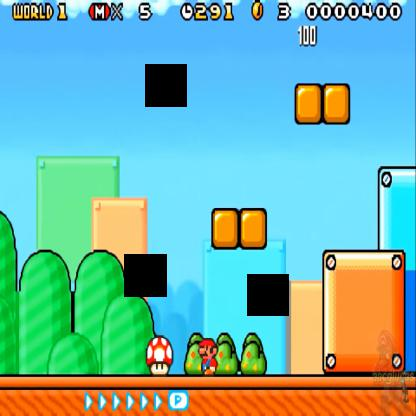Mario: (199, 336, 220, 377)
hongo: (146, 334, 174, 376)
moneda: (250, 1, 263, 21)
